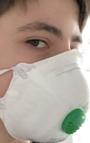with_mask: (2, 1, 90, 143)
